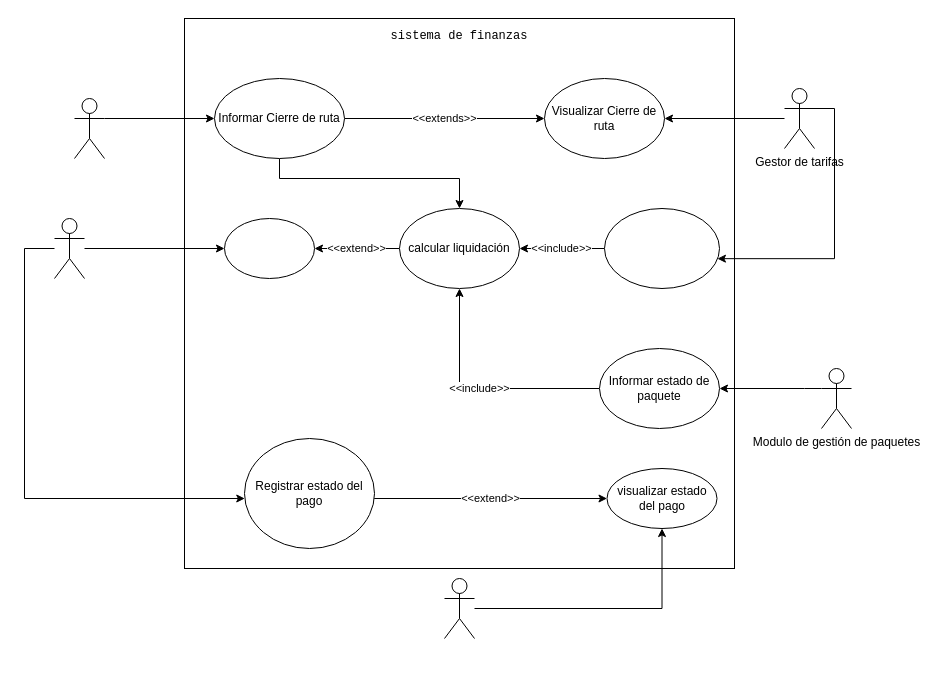
The diagram is 937 pixels wide and 692 high, and some of its shapes have lost their labels. Each missing label, with the centre of its shape:
Entidad financiera: (69,248)
Modulo de rutas y flotas: (89,128)
Registrar el modelo de contratación: (662,248)
transportador: (459,608)
visualizar liquidación: (269,248)
